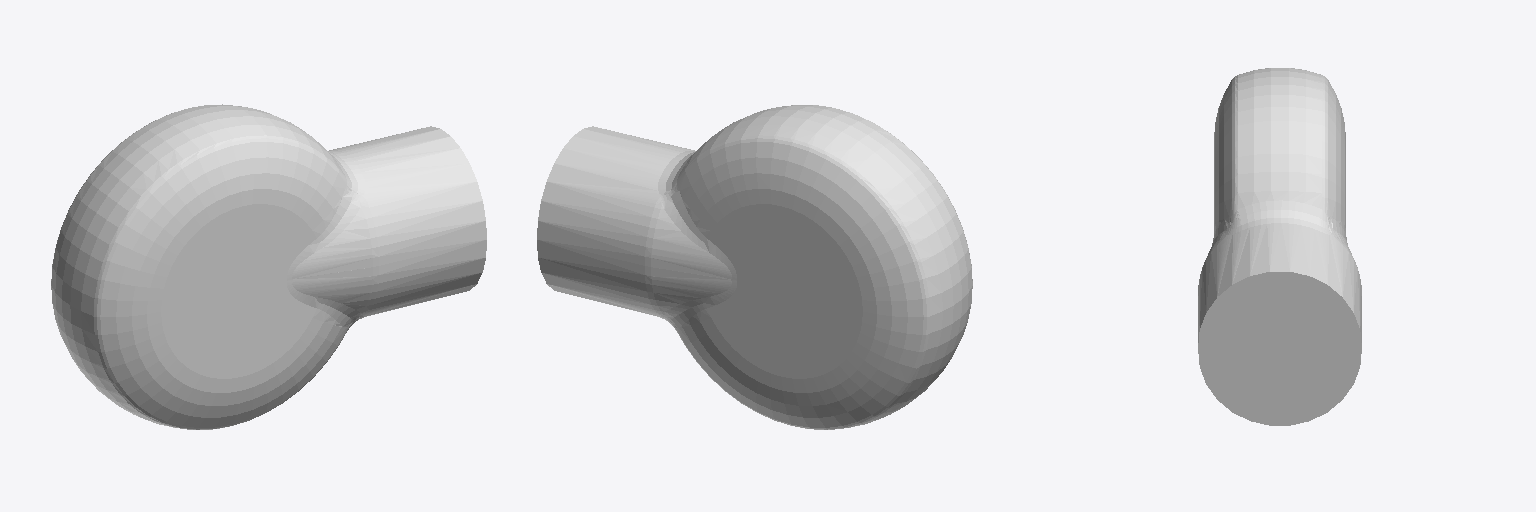
File: arm_6_wrist_2017.obj
3 renders of one model, left to right at view 1: azimuth 30°, elevation 25°; view 2: azimuth 150°, elevation 25°; view 3: azimuth 270°, elevation 25°, orthographic.
Visible parts, largest first — view 1: arm_6_wrist_2017; view 2: arm_6_wrist_2017; view 3: arm_6_wrist_2017.
Part boxes in pixels (left/top/right/bottom): arm_6_wrist_2017: left=51, top=104, right=486, bottom=429; arm_6_wrist_2017: left=537, top=105, right=972, bottom=429; arm_6_wrist_2017: left=1198, top=68, right=1361, bottom=425.
Size of the model in its own units: 0.1096 by 0.0828 by 0.041.